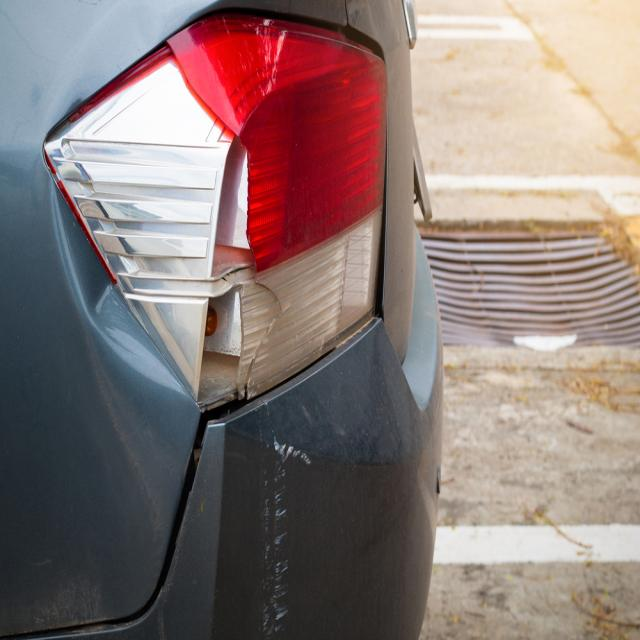Phare abime: (29, 37, 279, 414)
Rayure: (239, 427, 313, 640)
